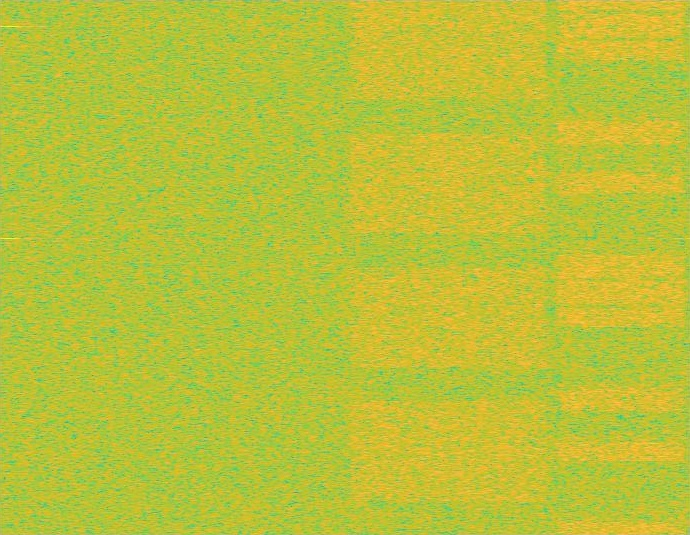5G: (345, 0, 552, 534)
LTE: (552, 0, 689, 534)
Radar: (2, 0, 16, 534)
